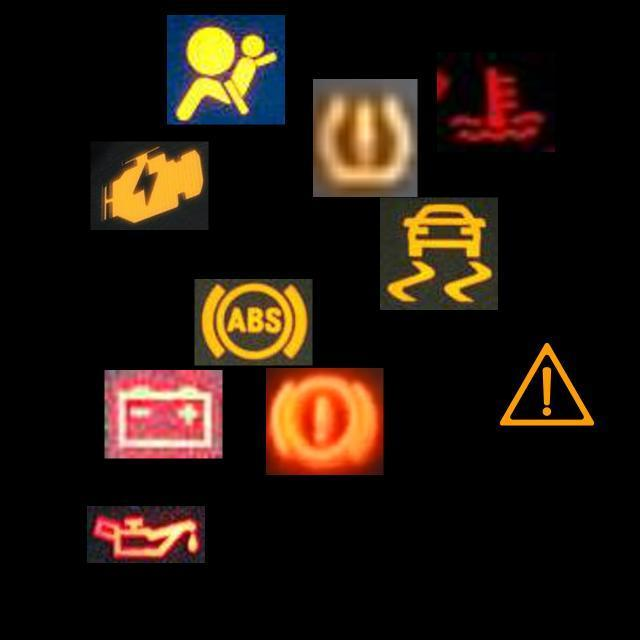Central Warning lamp: (488, 326, 606, 444)
Engine cooling system: (437, 52, 555, 152)
